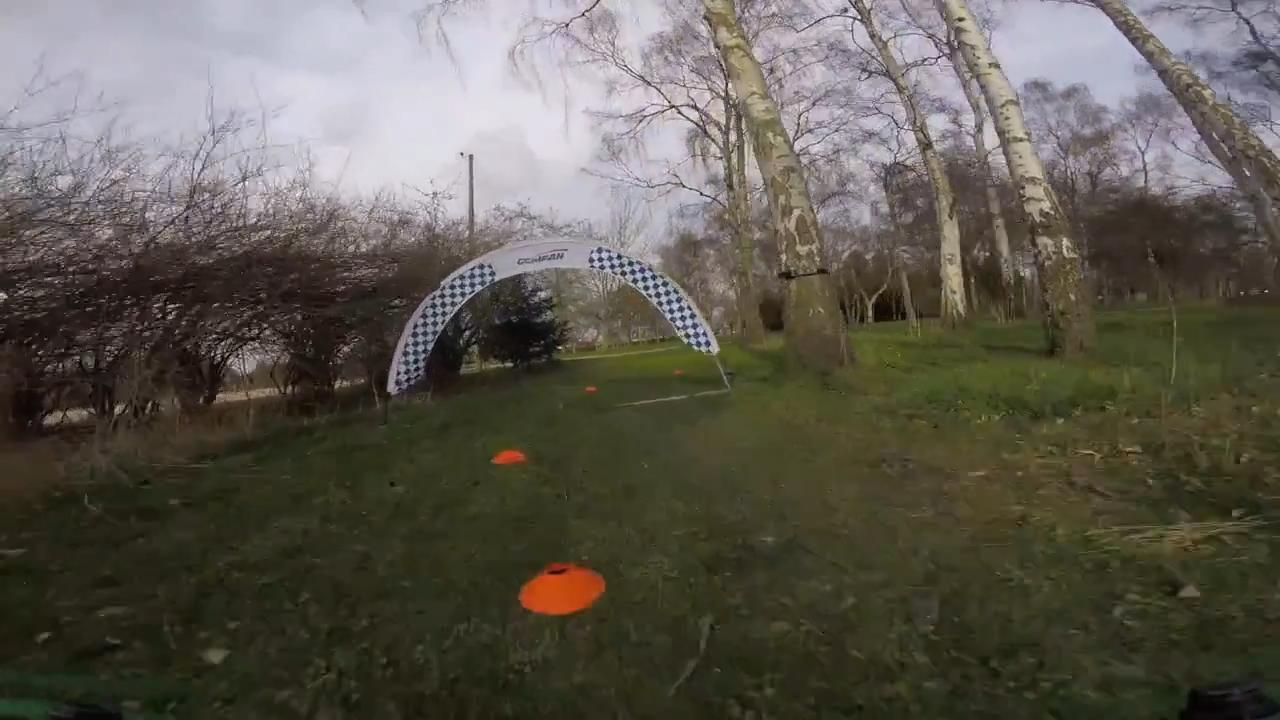gate: (382, 238, 723, 405)
